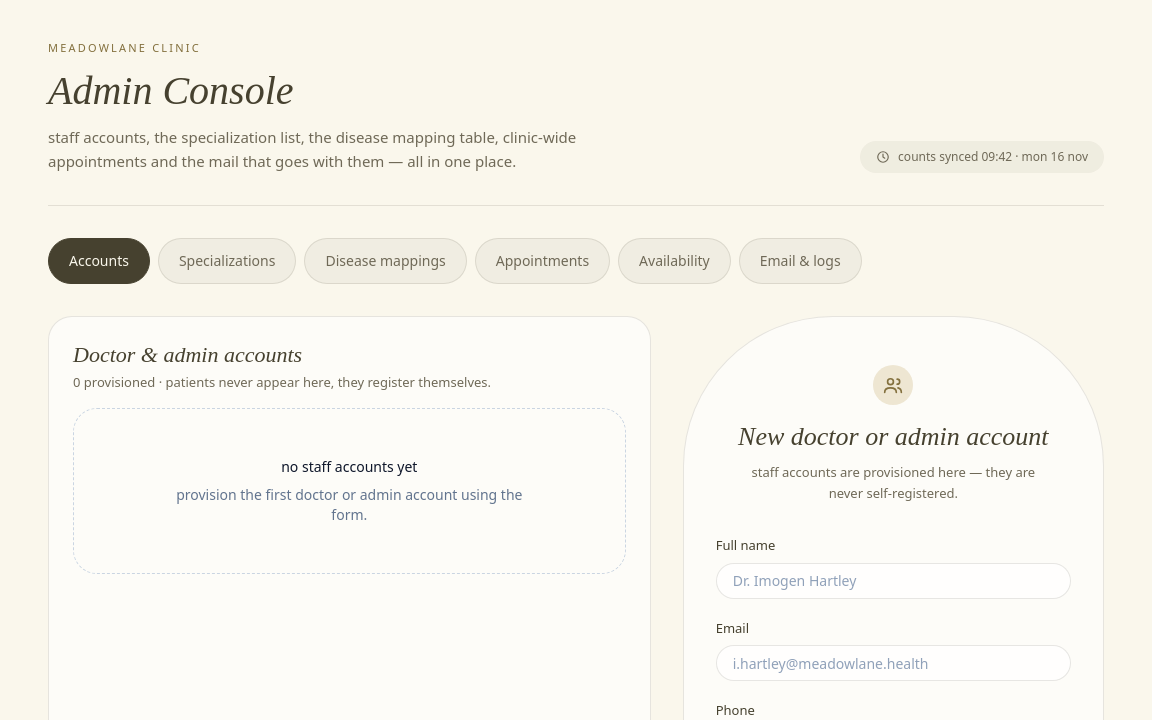
Test: AdminConsole specializations › [AC-050][AC-051] deleting a specialization with no dependencies removes it
Click the tab "Specializations". click: (227, 261)
box: [158,238,296,284]
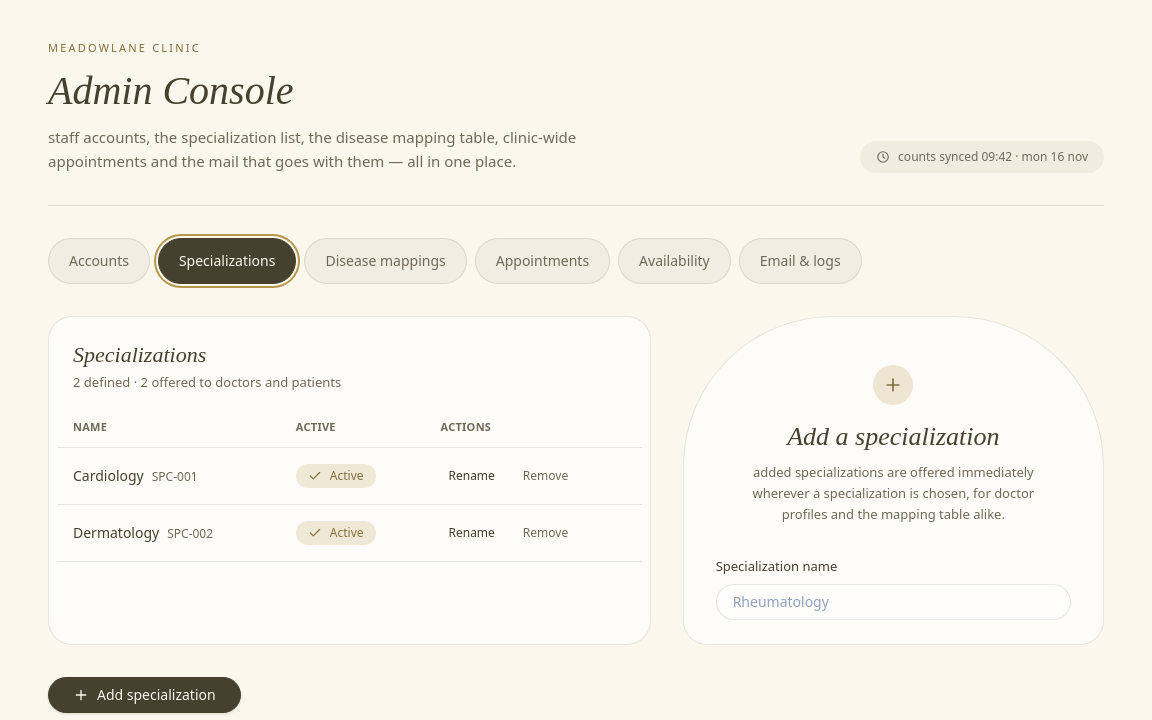
Expected: the text "Cardiology" is shown, [73,466,144,485]
Click the button named "Remove Cardiology". click: (546, 476)
box: [515,464,576,488]
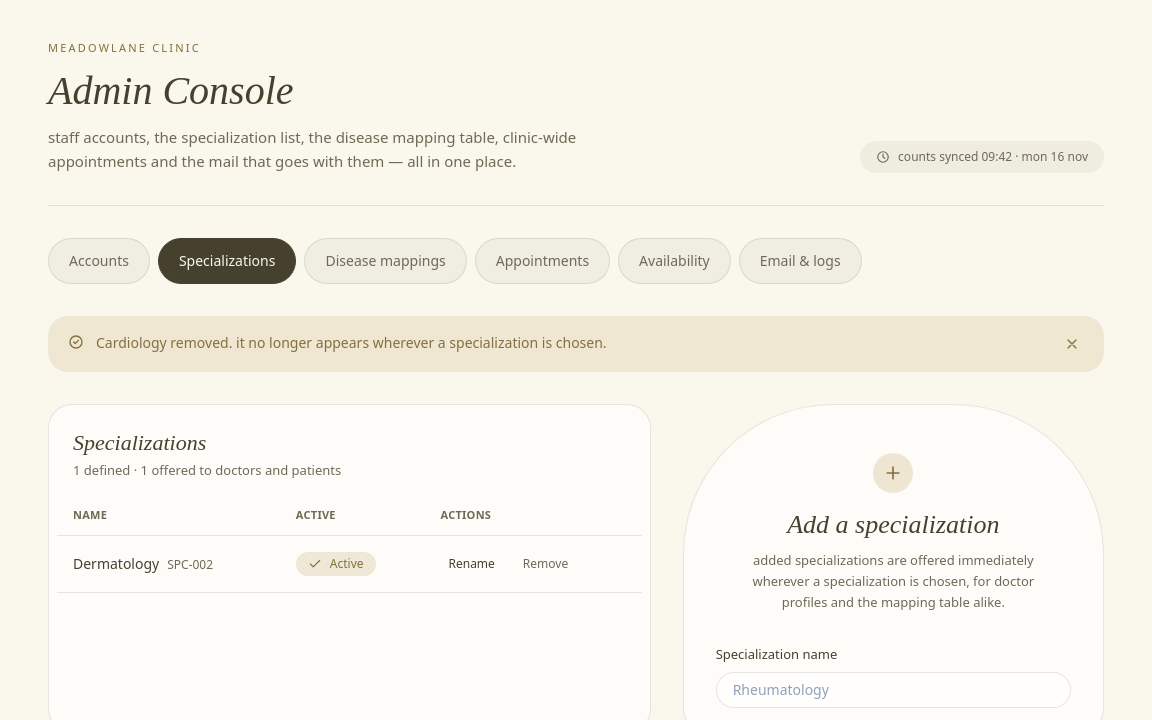
Expected: the text "Cardiology removed. it no longer appears wherever a specialization is chosen." is shown, [96,333,607,352]
